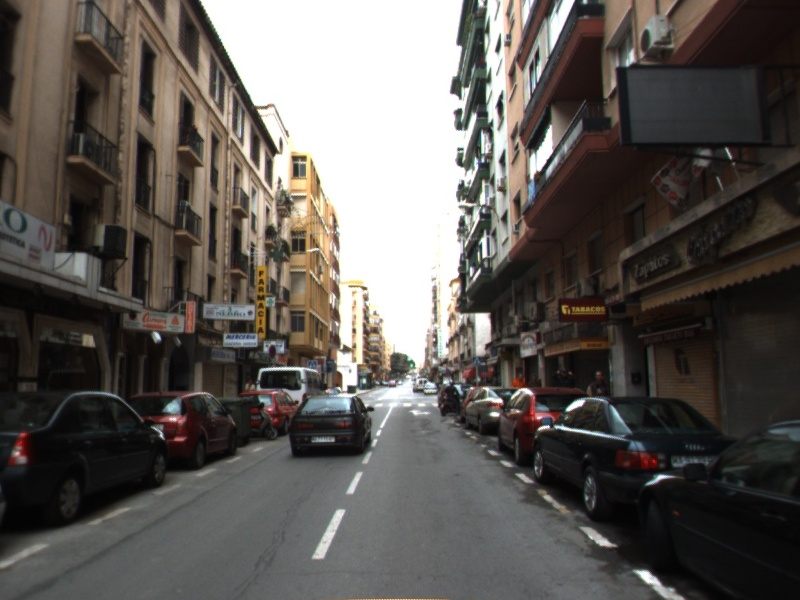STRAIGHT_RIGHT: (406, 407, 433, 417)
